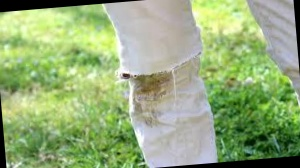earth: (132, 71, 169, 128)
